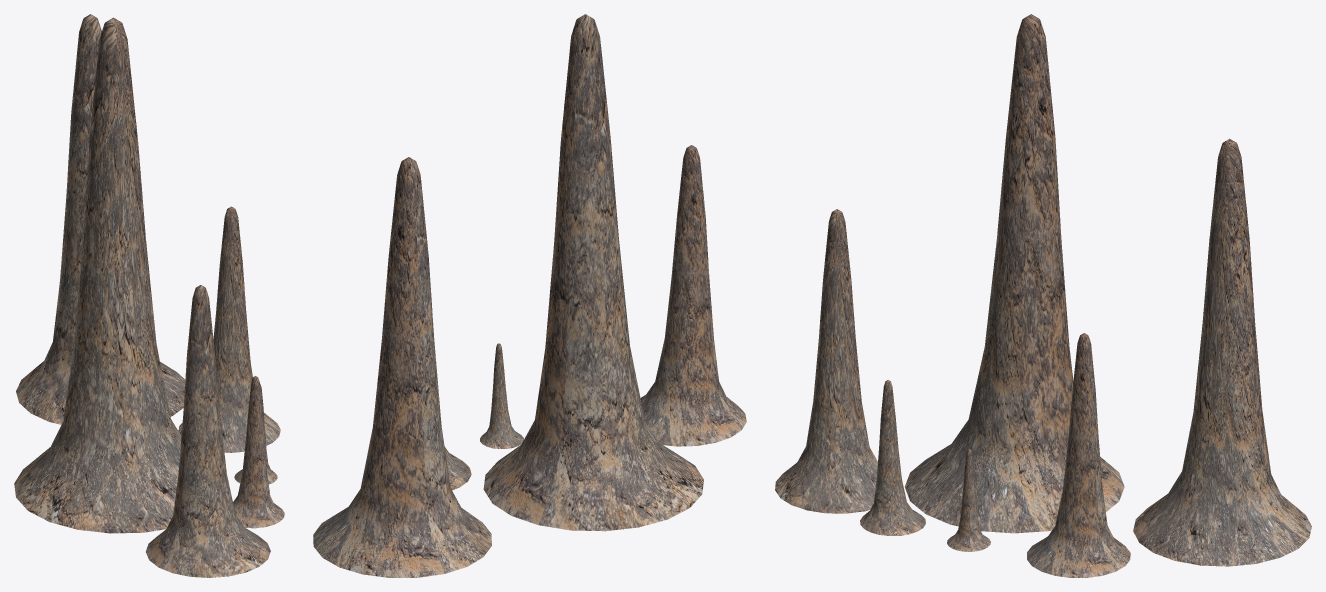
File: Stalactites and Stalagmites.fbx
3 renders of one model, left to right at view 1: azimuth 30°, elevation 25°; view 2: azimuth 150°, elevation 25°; view 3: azimuth 270°, elevation 25°, orthographic. The views are drawn at different scales.
Visible parts, largest first — view 1: Stalactites_and_Stalagmites_7; view 2: Stalactites_and_Stalagmites_7; view 3: Stalactites_and_Stalagmites_7.
Part boxes in pixels (x1,y1,x2,y2): Stalactites_and_Stalagmites_7: (14, 14, 284, 577); Stalactites_and_Stalagmites_7: (313, 14, 746, 577); Stalactites_and_Stalagmites_7: (775, 14, 1311, 577).
Size of the model in its own units: 3.59 by 5.76 by 5.92.
